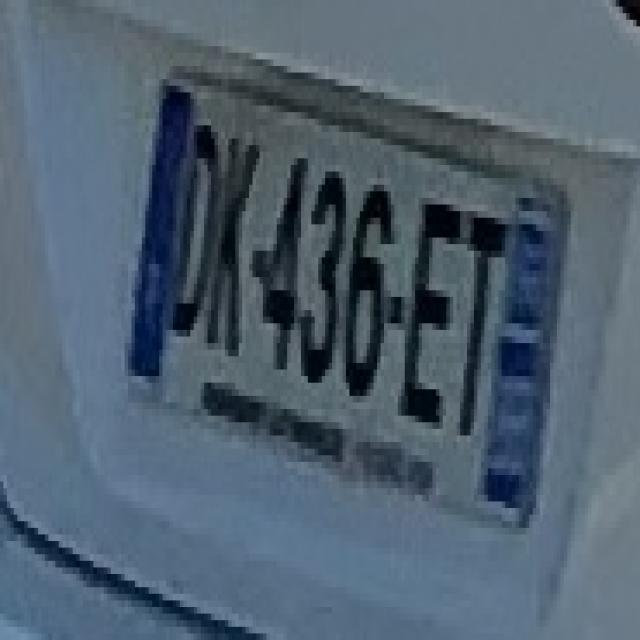Autre: (122, 68, 578, 524)
